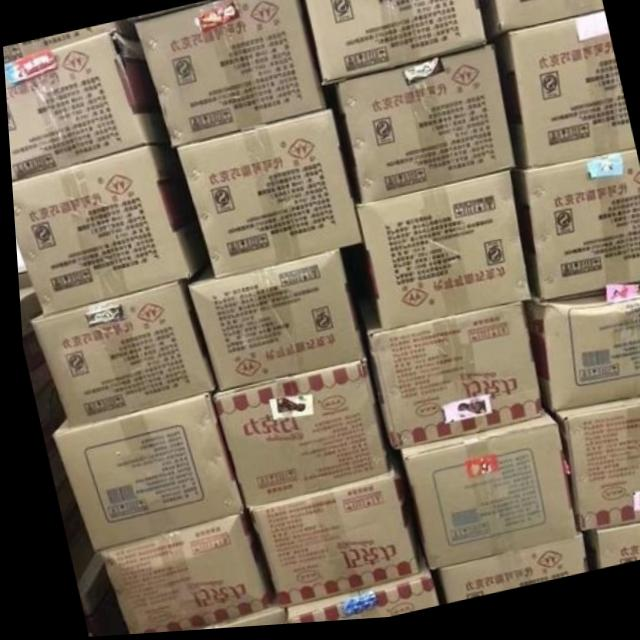box: (9, 146, 204, 314), (176, 112, 360, 281), (46, 396, 236, 552), (135, 0, 326, 149), (336, 50, 514, 208), (353, 176, 527, 335), (354, 303, 537, 453), (26, 281, 212, 428), (393, 422, 569, 574), (207, 364, 383, 511), (185, 255, 360, 394), (3, 33, 167, 180), (241, 475, 412, 611), (495, 21, 633, 176), (92, 516, 266, 635), (513, 160, 640, 308), (304, 0, 486, 90), (522, 294, 640, 418), (550, 406, 640, 540), (432, 541, 580, 609), (279, 563, 430, 627), (2, 19, 140, 64), (485, 0, 604, 43), (580, 530, 640, 578)
